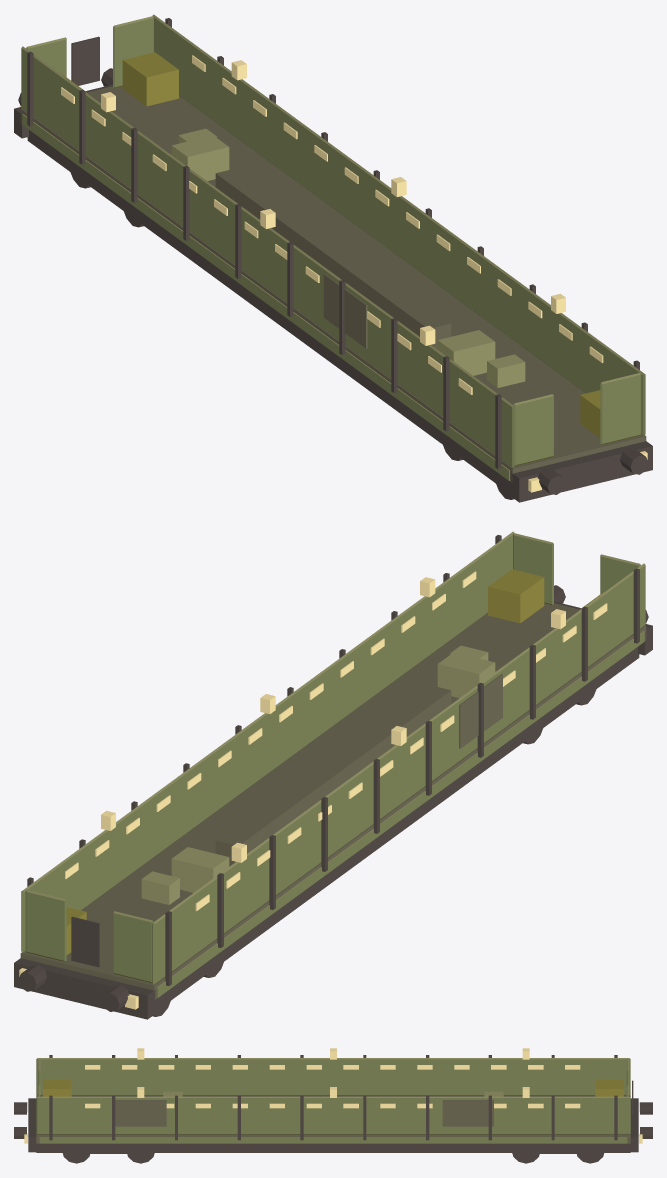
Rendered from SM_Vagon_Cercano_v2_LOD0.fbx.
3 views of the same model, one above another, from view 1: azimuth 30°, elevation 25°; view 2: azimuth 150°, elevation 25°; view 3: azimuth 270°, elevation 25° (orthographic). The views are drawn at different scales.
Parts seen in each view (by area): view 1: SM_bloques.vagon_cercano_v2_LOD0, Emision; view 2: SM_bloques.vagon_cercano_v2_LOD0, Emision; view 3: SM_bloques.vagon_cercano_v2_LOD0, Emision.
Boxes of the visible parts, <box> form: SM_bloques.vagon_cercano_v2_LOD0: <box>14,14,652,502</box>; Emision: <box>19,55,647,492</box>; SM_bloques.vagon_cercano_v2_LOD0: <box>14,531,652,1019</box>; Emision: <box>19,571,647,1009</box>; SM_bloques.vagon_cercano_v2_LOD0: <box>14,1055,652,1163</box>; Emision: <box>24,1048,642,1143</box>.
Size of the model in its own units: 3.08 by 2.84 by 19.9.
